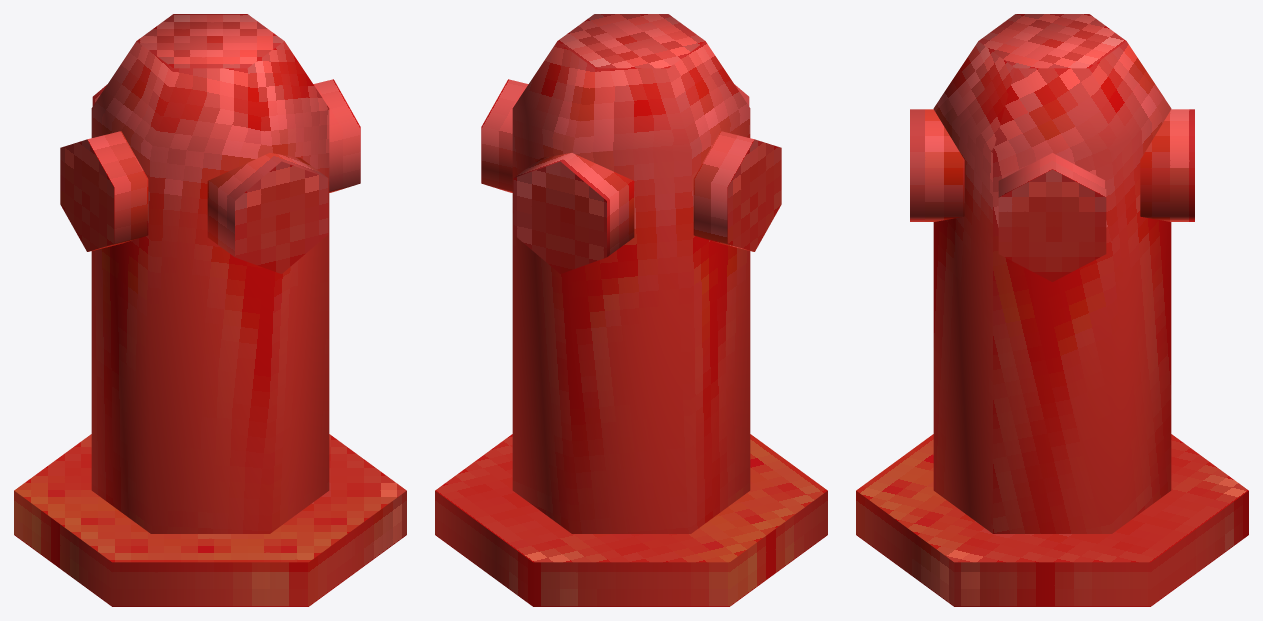
The model's file is Hydr.fbx.
3 renders of one model, left to right at view 1: azimuth 30°, elevation 25°; view 2: azimuth 150°, elevation 25°; view 3: azimuth 270°, elevation 25°, orthographic.
Parts seen in each view (by area): view 1: Окружность; view 2: Окружность; view 3: Окружность.
Part boxes in pixels (<box>): Окружность: <box>14,14,406,606</box>; Окружность: <box>435,14,827,606</box>; Окружность: <box>856,14,1248,606</box>.
Bounding box in the file's own units: 173 × 278 × 200.
1 material, 1 textured.
